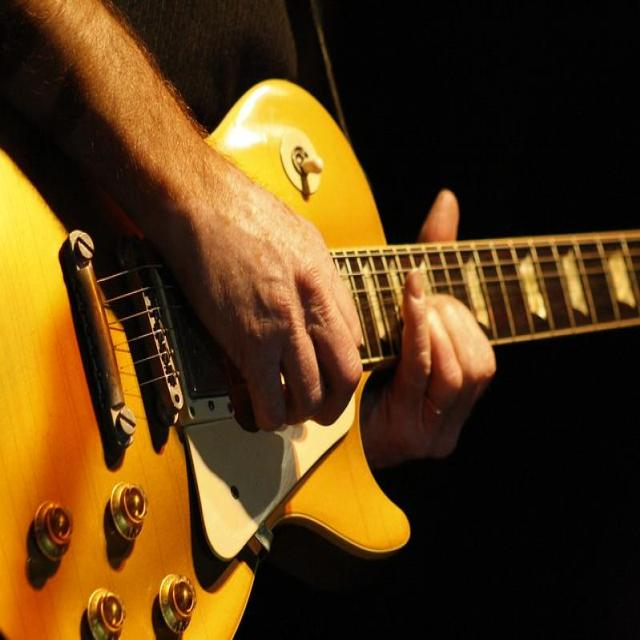guitar: (0, 152, 257, 637)
